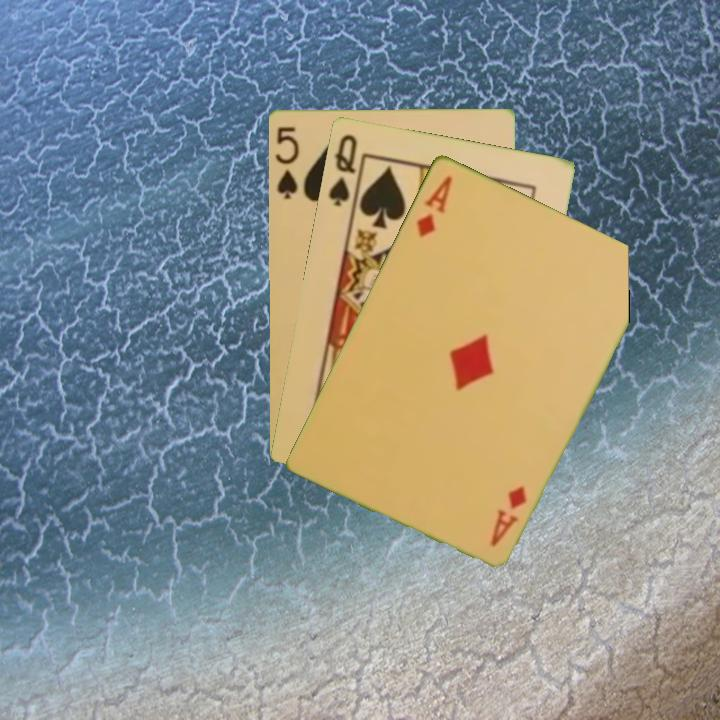5s: (271, 123, 301, 202)
Ad: (486, 482, 530, 550), (412, 171, 455, 240)
Qs: (324, 130, 360, 209)
